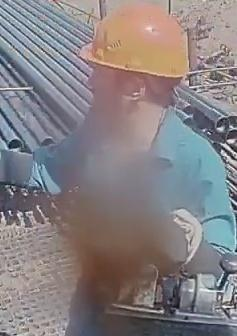gloves: (161, 207, 216, 271)
helmet: (77, 1, 189, 83)
vest: (60, 107, 228, 279)
